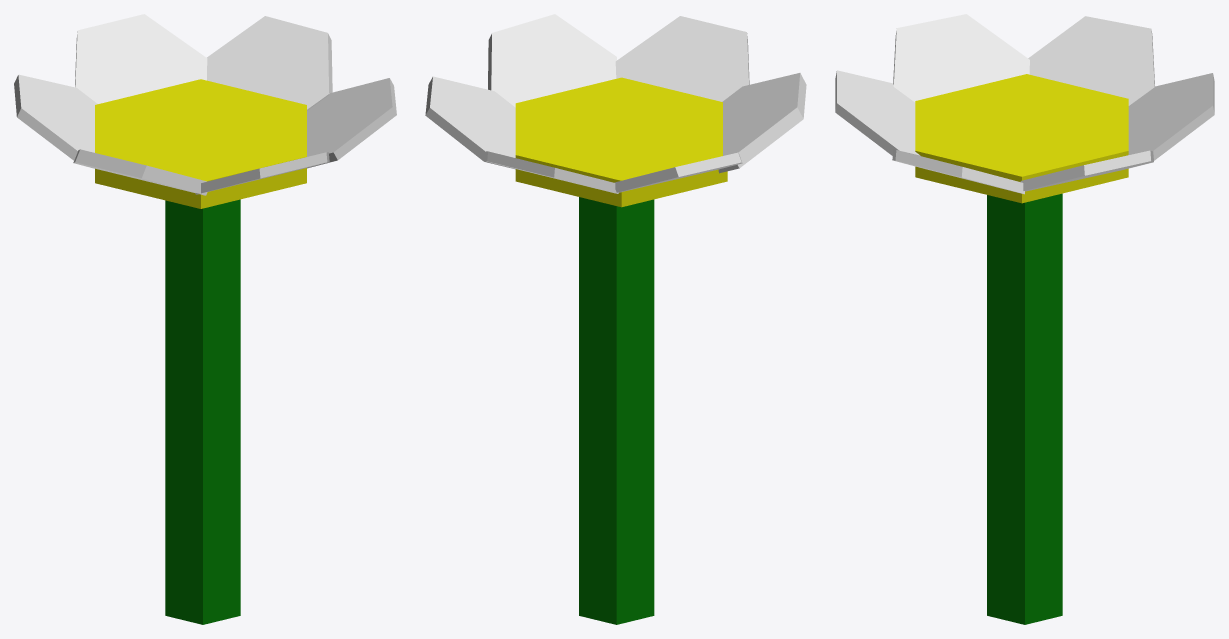
The model's file is Pretty_flower_low_poly_lol_e.fbx.
3 views of the same model, side by side, from view 1: azimuth 30°, elevation 25°; view 2: azimuth 150°, elevation 25°; view 3: azimuth 270°, elevation 25° (orthographic).
Visible parts, largest first — view 1: group10_pasted__group5_pasted__pasted__group4_pasted__pasted; view 2: group10_pasted__group5_pasted__pasted__group4_pasted__pasted; view 3: group10_pasted__group5_pasted__pasted__group4_pasted__pasted.
Part boxes in pixels (bbox=[...]): group10_pasted__group5_pasted__pasted__group4_pasted__pasted: bbox=[14, 14, 396, 624]; group10_pasted__group5_pasted__pasted__group4_pasted__pasted: bbox=[425, 14, 806, 624]; group10_pasted__group5_pasted__pasted__group4_pasted__pasted: bbox=[835, 14, 1214, 624].
Size of the model in its own units: 1.93 by 3.01 by 1.99.
